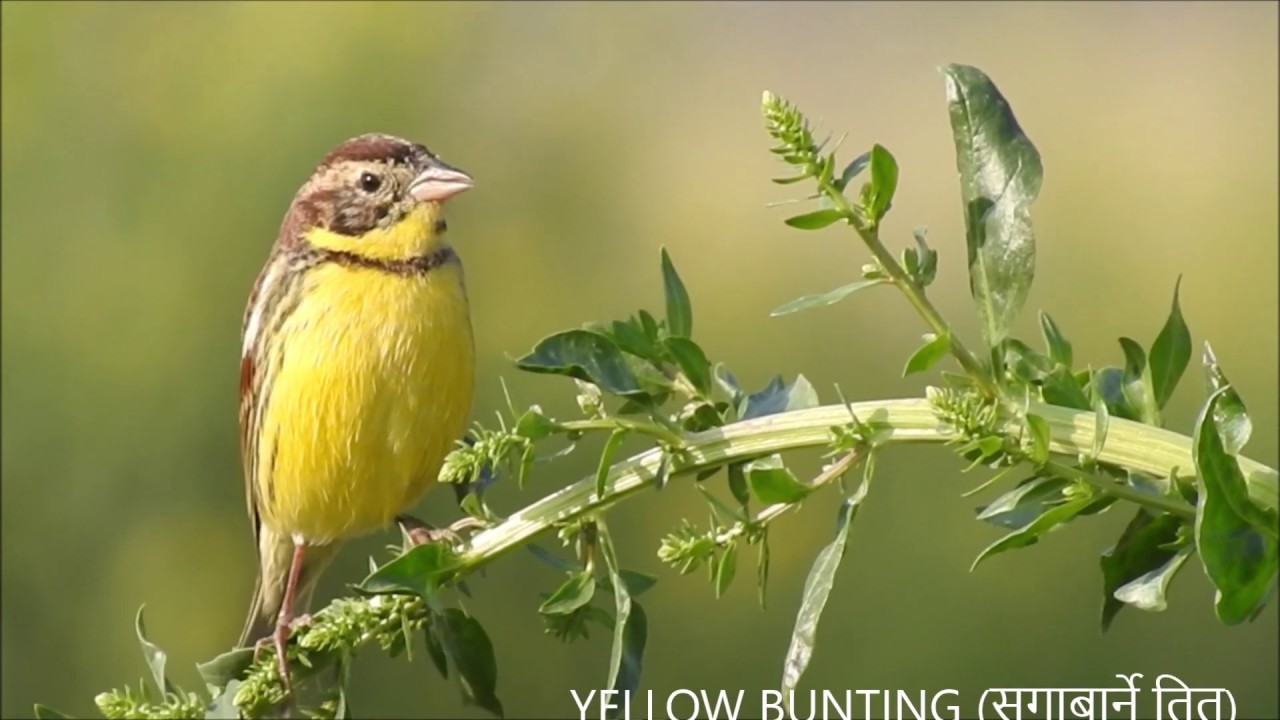bird: (201, 101, 539, 685)
